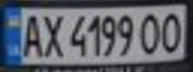1: (84, 11, 103, 57)
4: (66, 11, 87, 57)
9: (115, 11, 139, 56), (100, 11, 121, 57)
A: (18, 10, 45, 58)
O: (157, 9, 187, 54), (136, 10, 163, 55)
X: (39, 10, 66, 58)
